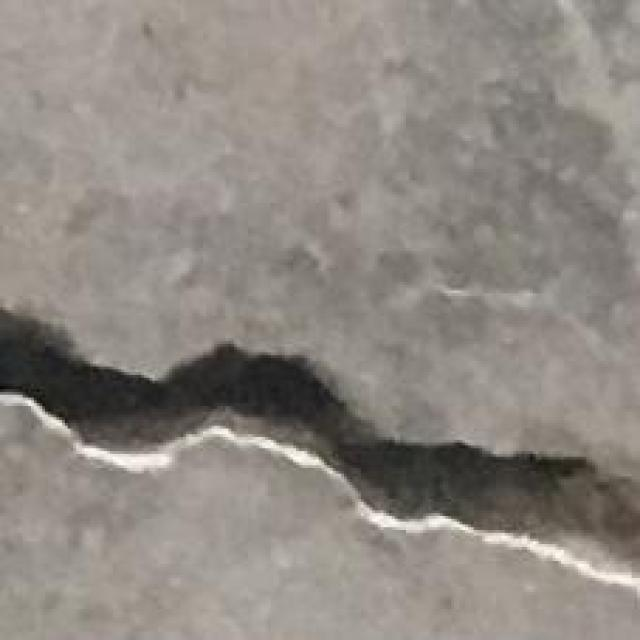diagonal crack: (0, 310, 640, 578)
